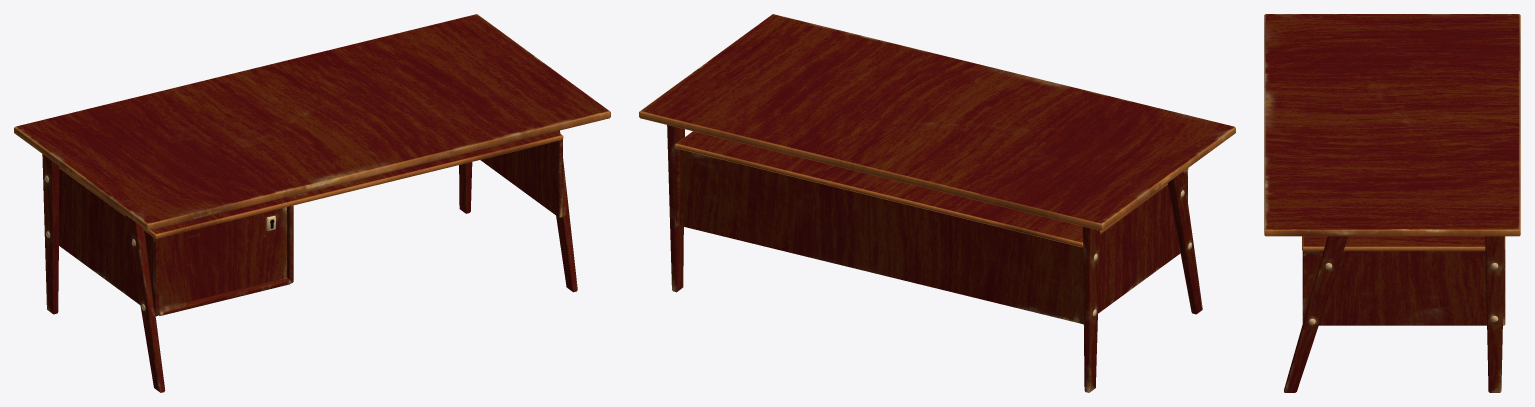
Rendered from Table.office.fbx.
3 views of the same model, side by side, from view 1: azimuth 30°, elevation 25°; view 2: azimuth 150°, elevation 25°; view 3: azimuth 270°, elevation 25° (orthographic). The views are drawn at different scales.
Parts seen in each view (by area): view 1: table; view 2: table; view 3: table.
Boxes of the visible parts, <box> form: table: <box>14,14,610,392</box>; table: <box>639,14,1235,392</box>; table: <box>1264,14,1520,392</box>.
Bounding box in the file's own units: 2.4 × 0.9 × 1.2.
